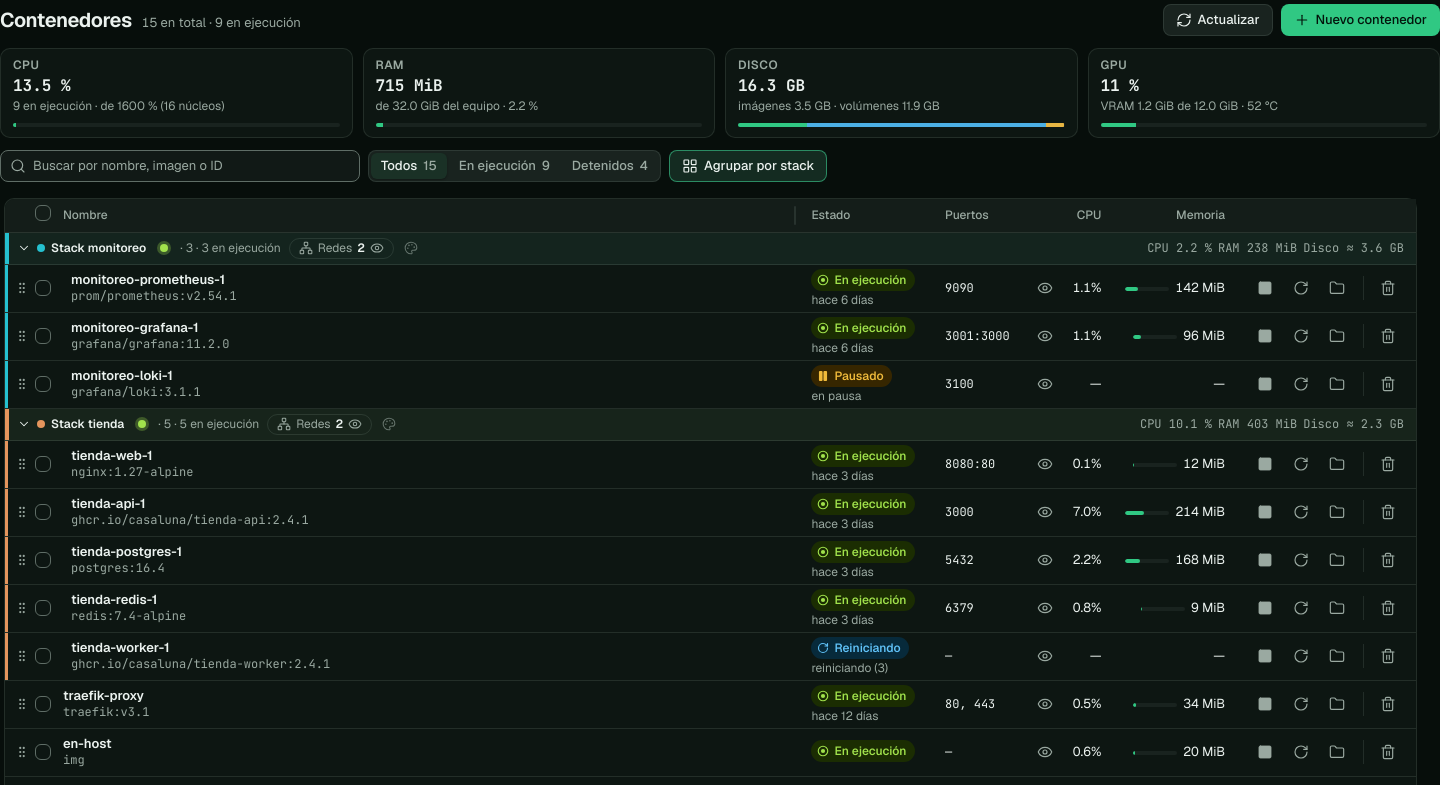
Scenario: modal del contenedor: pestaña IPs › red host: explica que comparte la IP del equipo; sin ninguna red: lo dice
This screenshot has width=1440, height=785.
Expected: the link "en-host" is shown, [63,735,112,752]
Click the button named "Ver puertos e IPs de en-host": (1045, 752) [1029,736,1061,768]
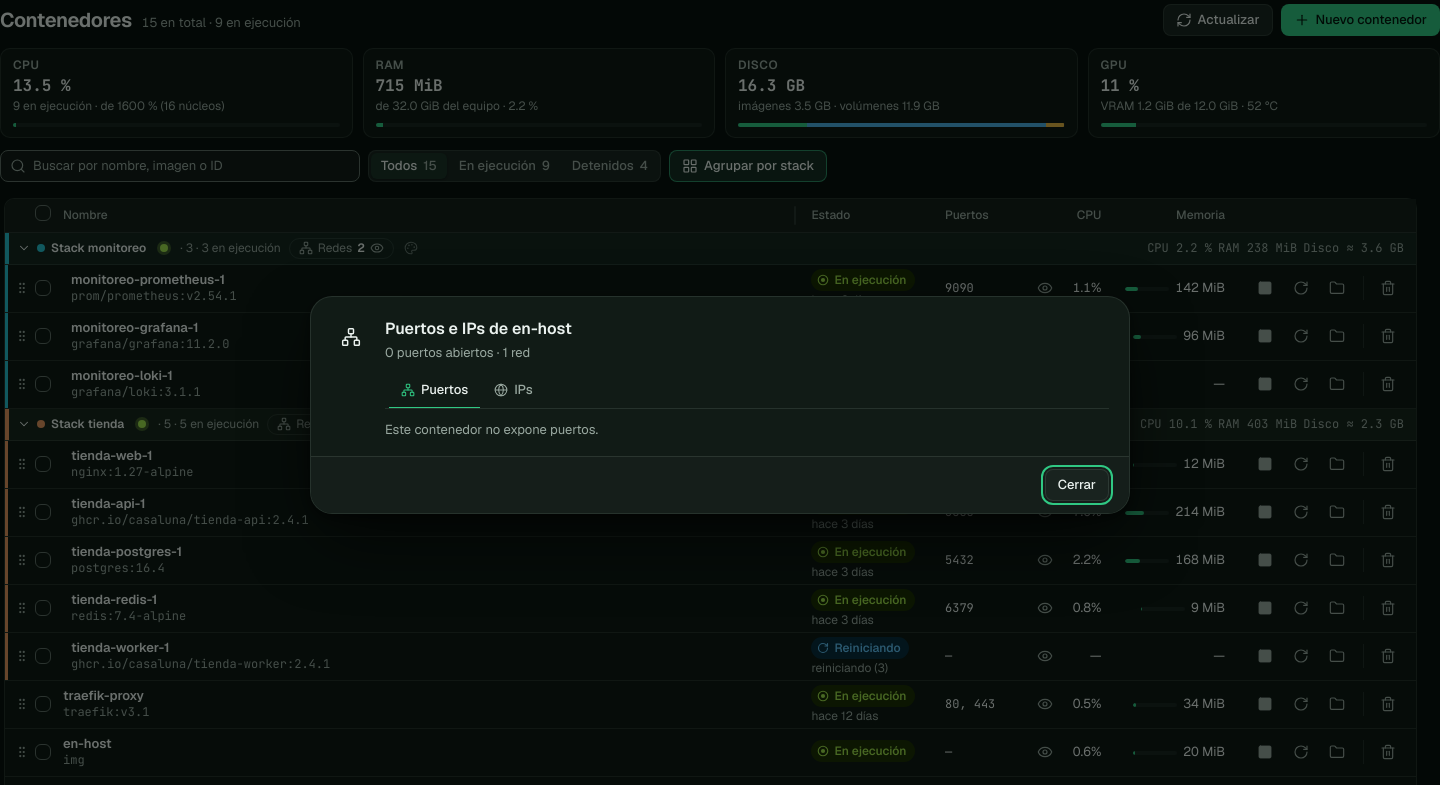
Click the tab "IPs": (514, 391) [482,373,545,409]
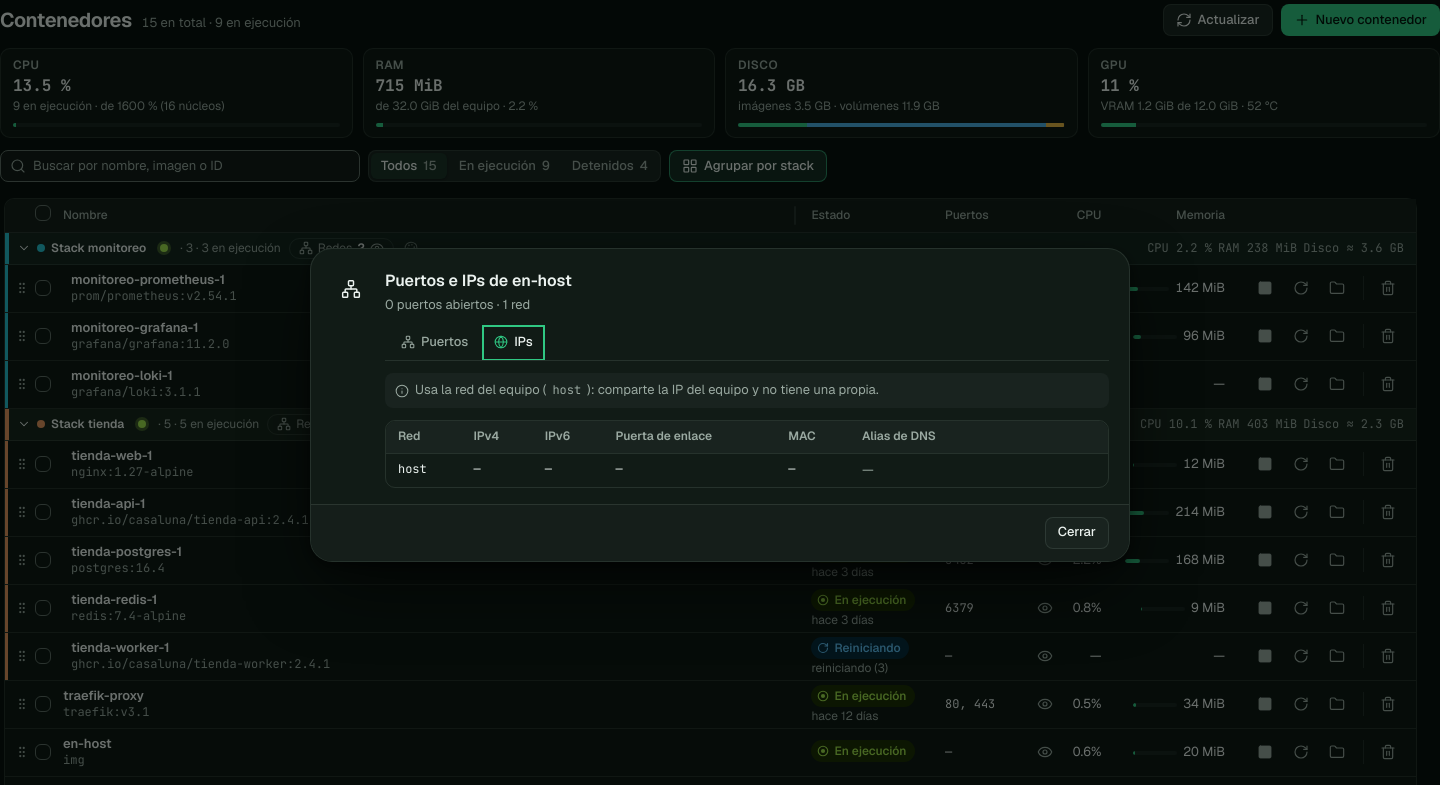
Press Escape
(page scrolled)
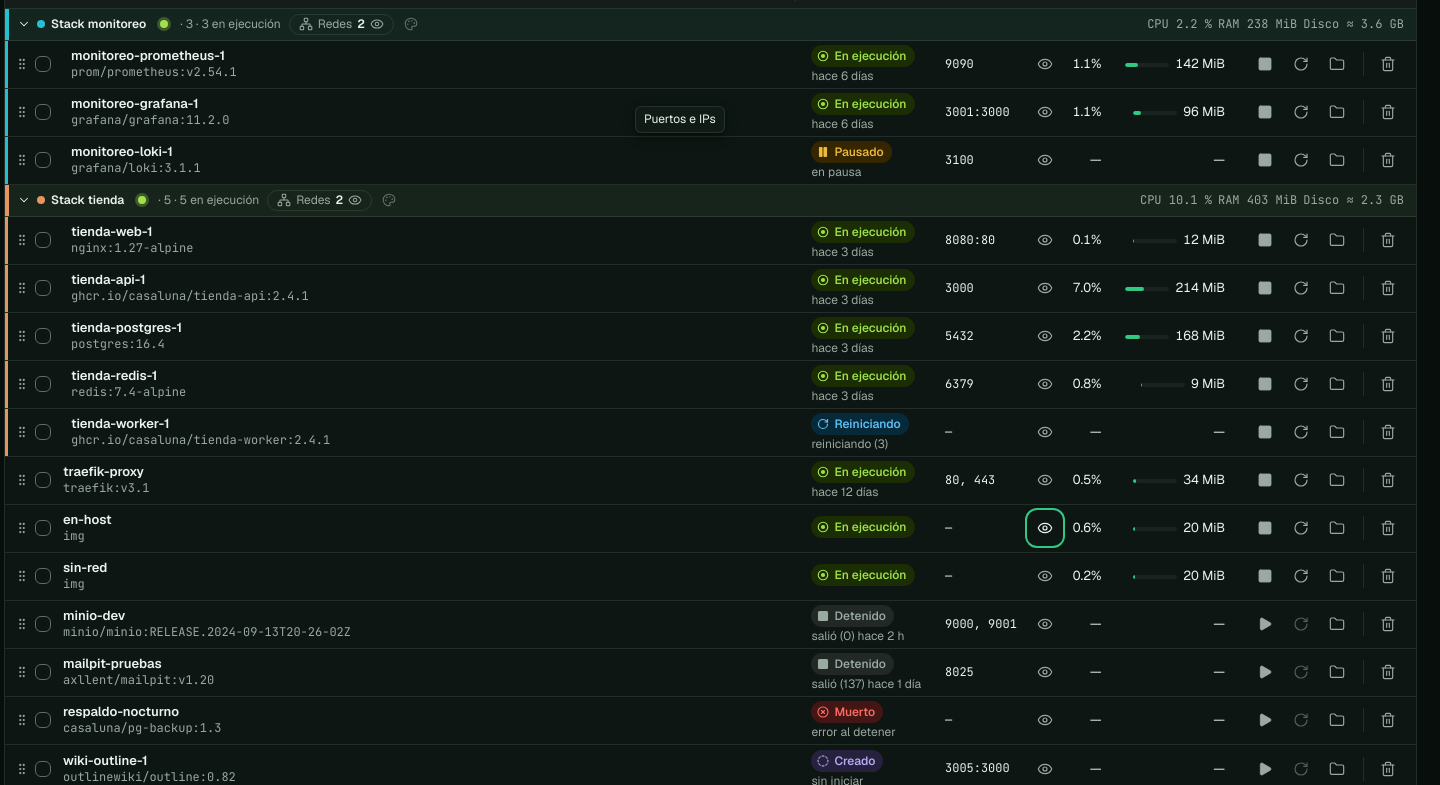
Expected: the dialog is gone
Click the button named "Ver puertos e IPs de sin-red": (1045, 576) [1029,560,1061,592]
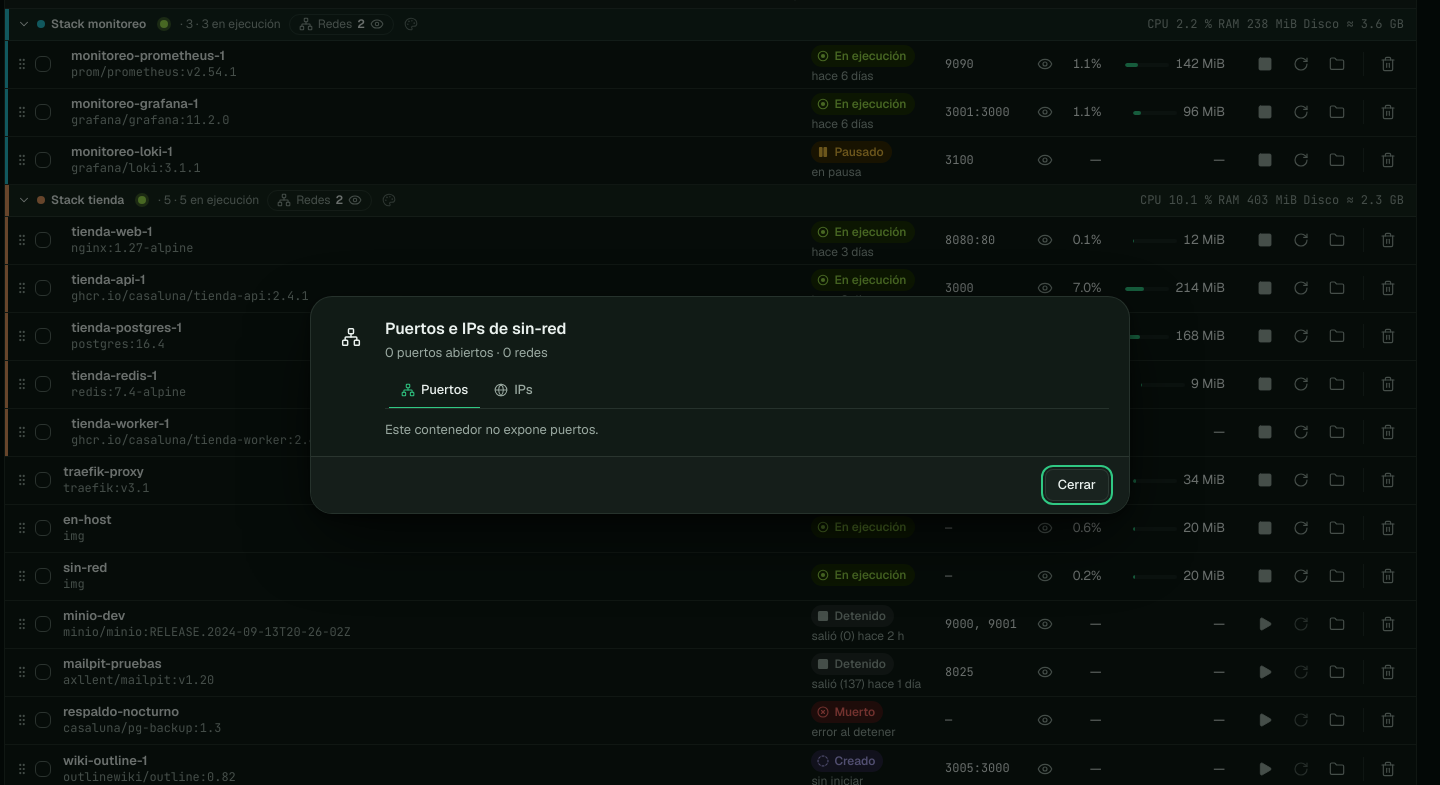
Click the tab "IPs": (514, 391) [482,373,545,409]
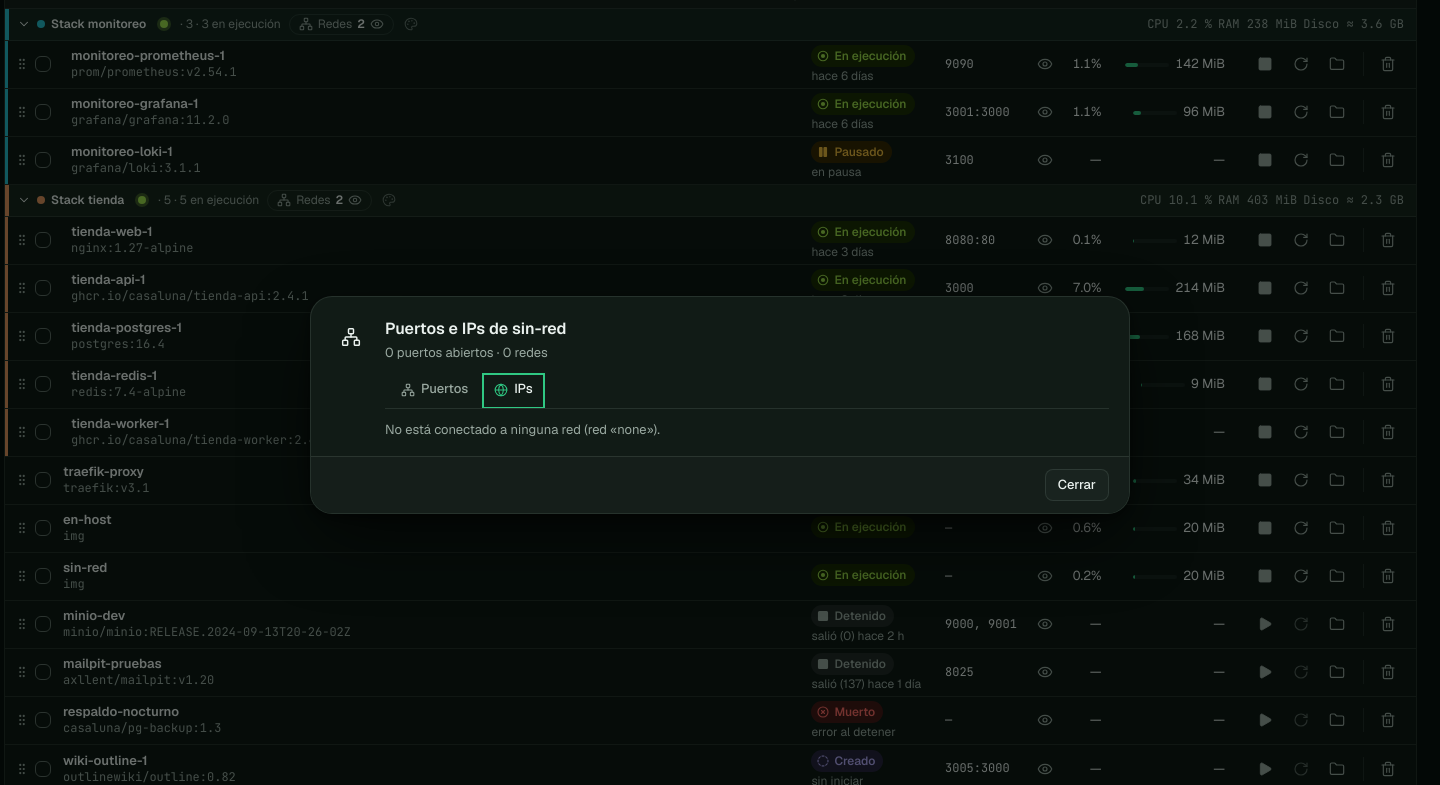
Expected: the text "No está conectado a ninguna red (red «none»)." is shown, [385,421,660,438]
